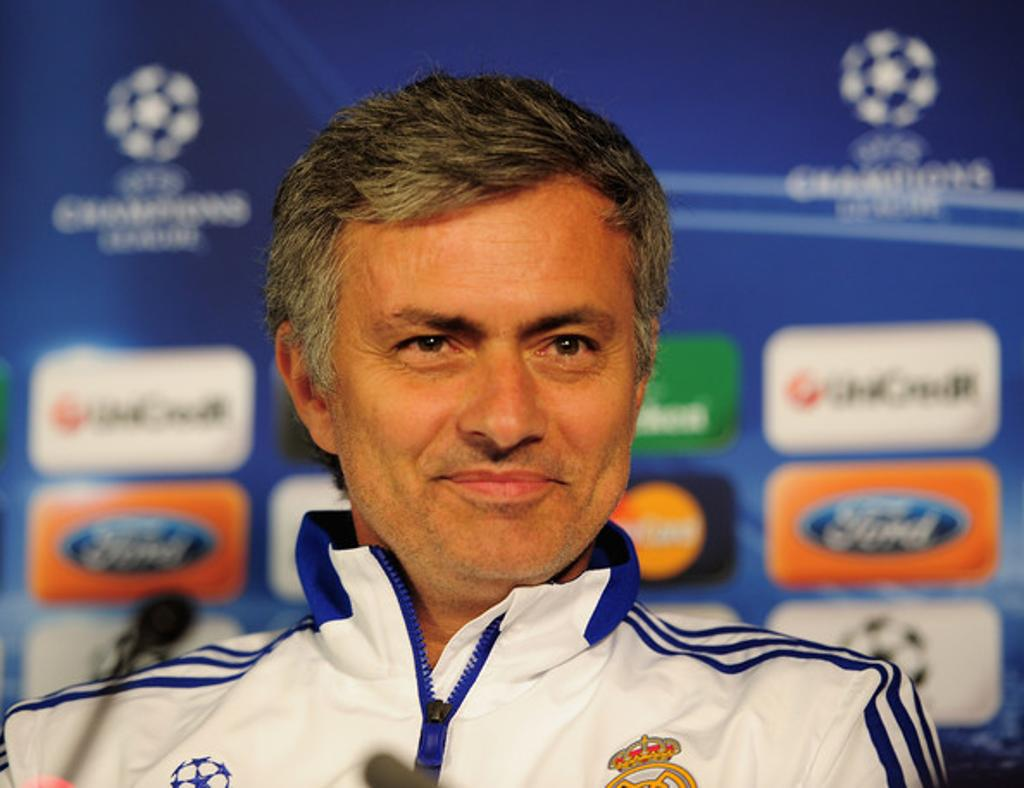face: (335, 183, 635, 583)
